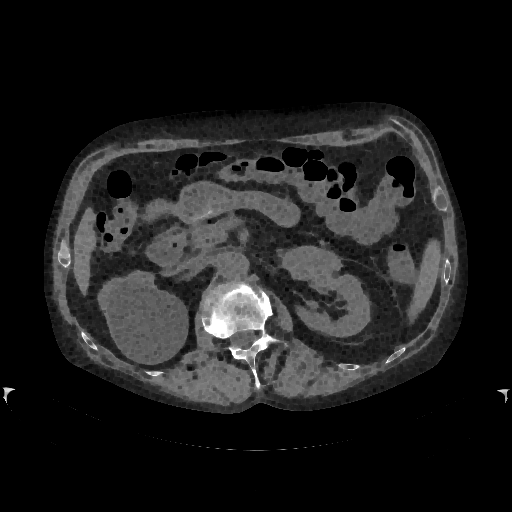Lesion: (274, 243, 347, 283)
